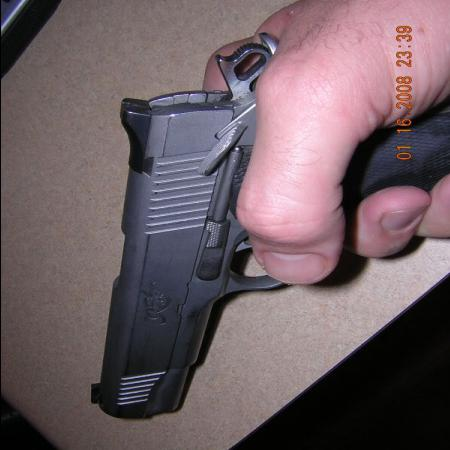Pistol: (81, 23, 450, 425)
